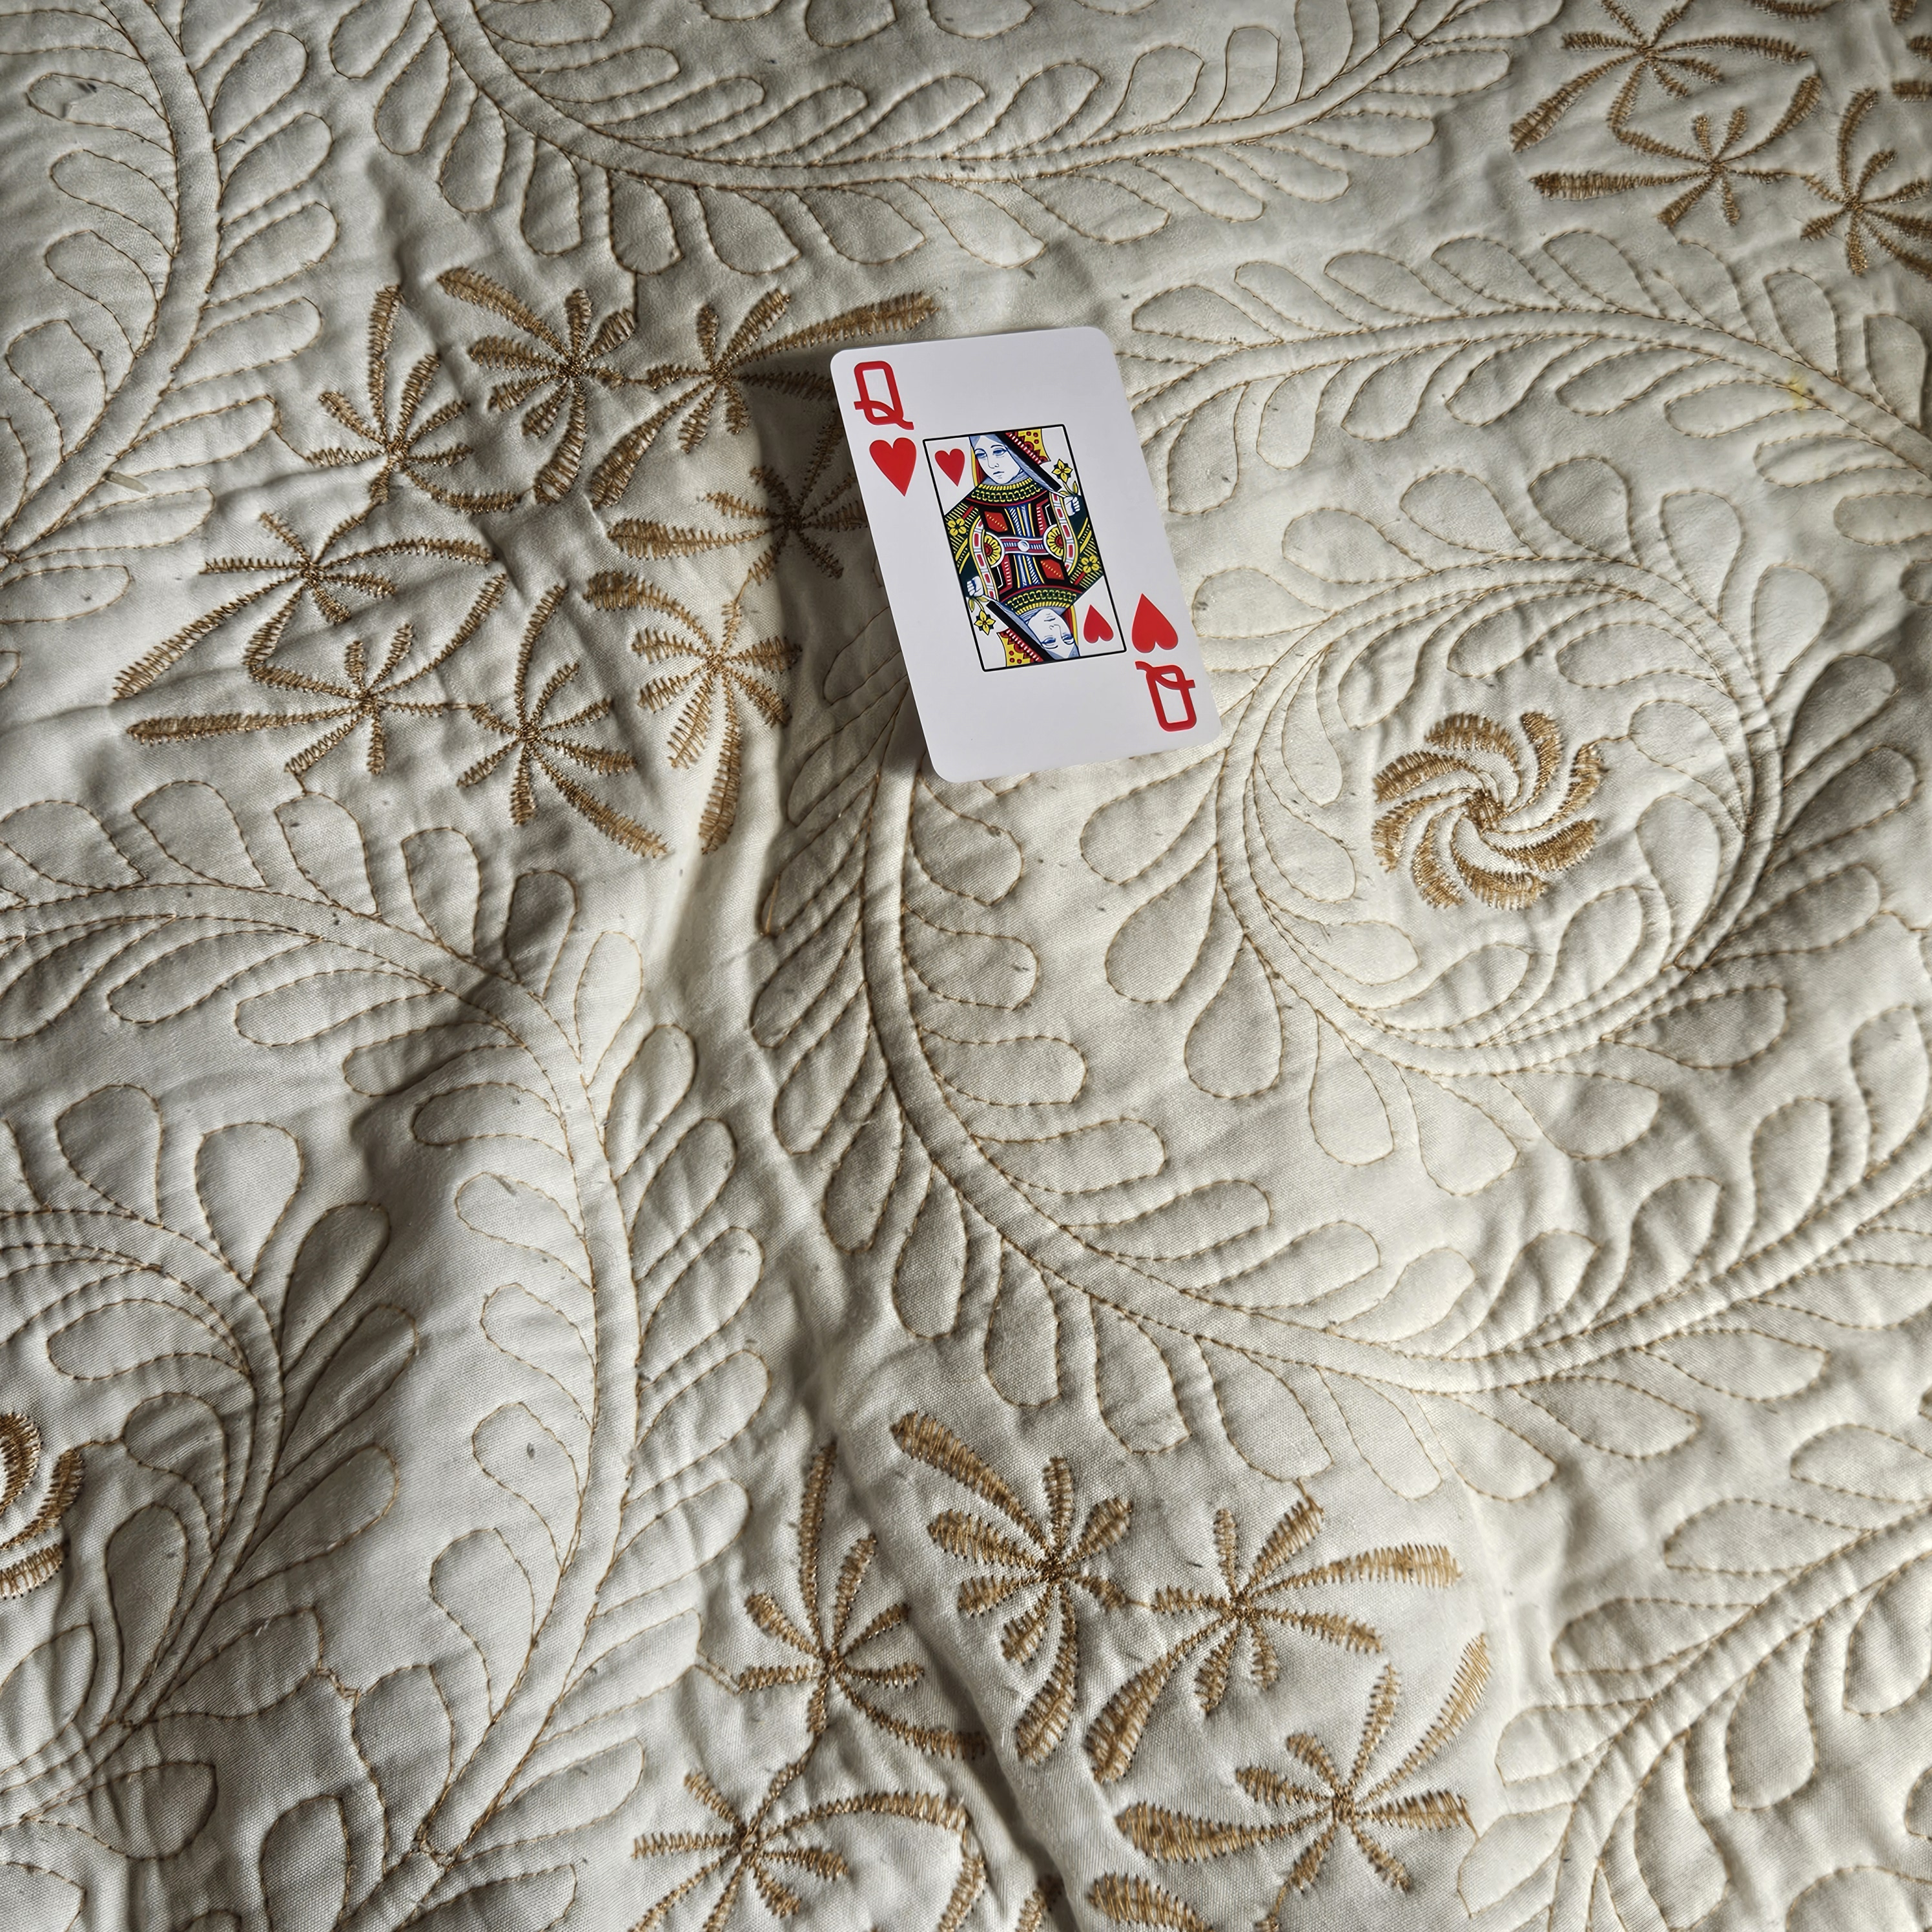QC: (840, 343, 932, 501), (1122, 587, 1207, 743)
